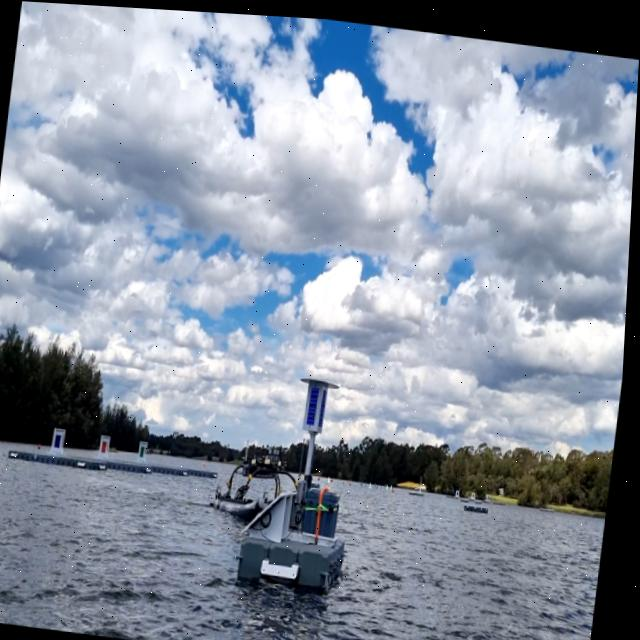led: (308, 379, 325, 425)
